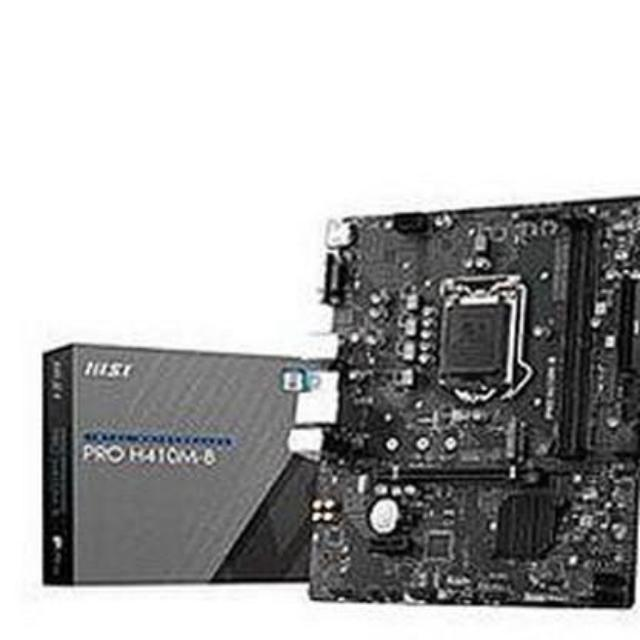Mainboard: (305, 188, 640, 628)
